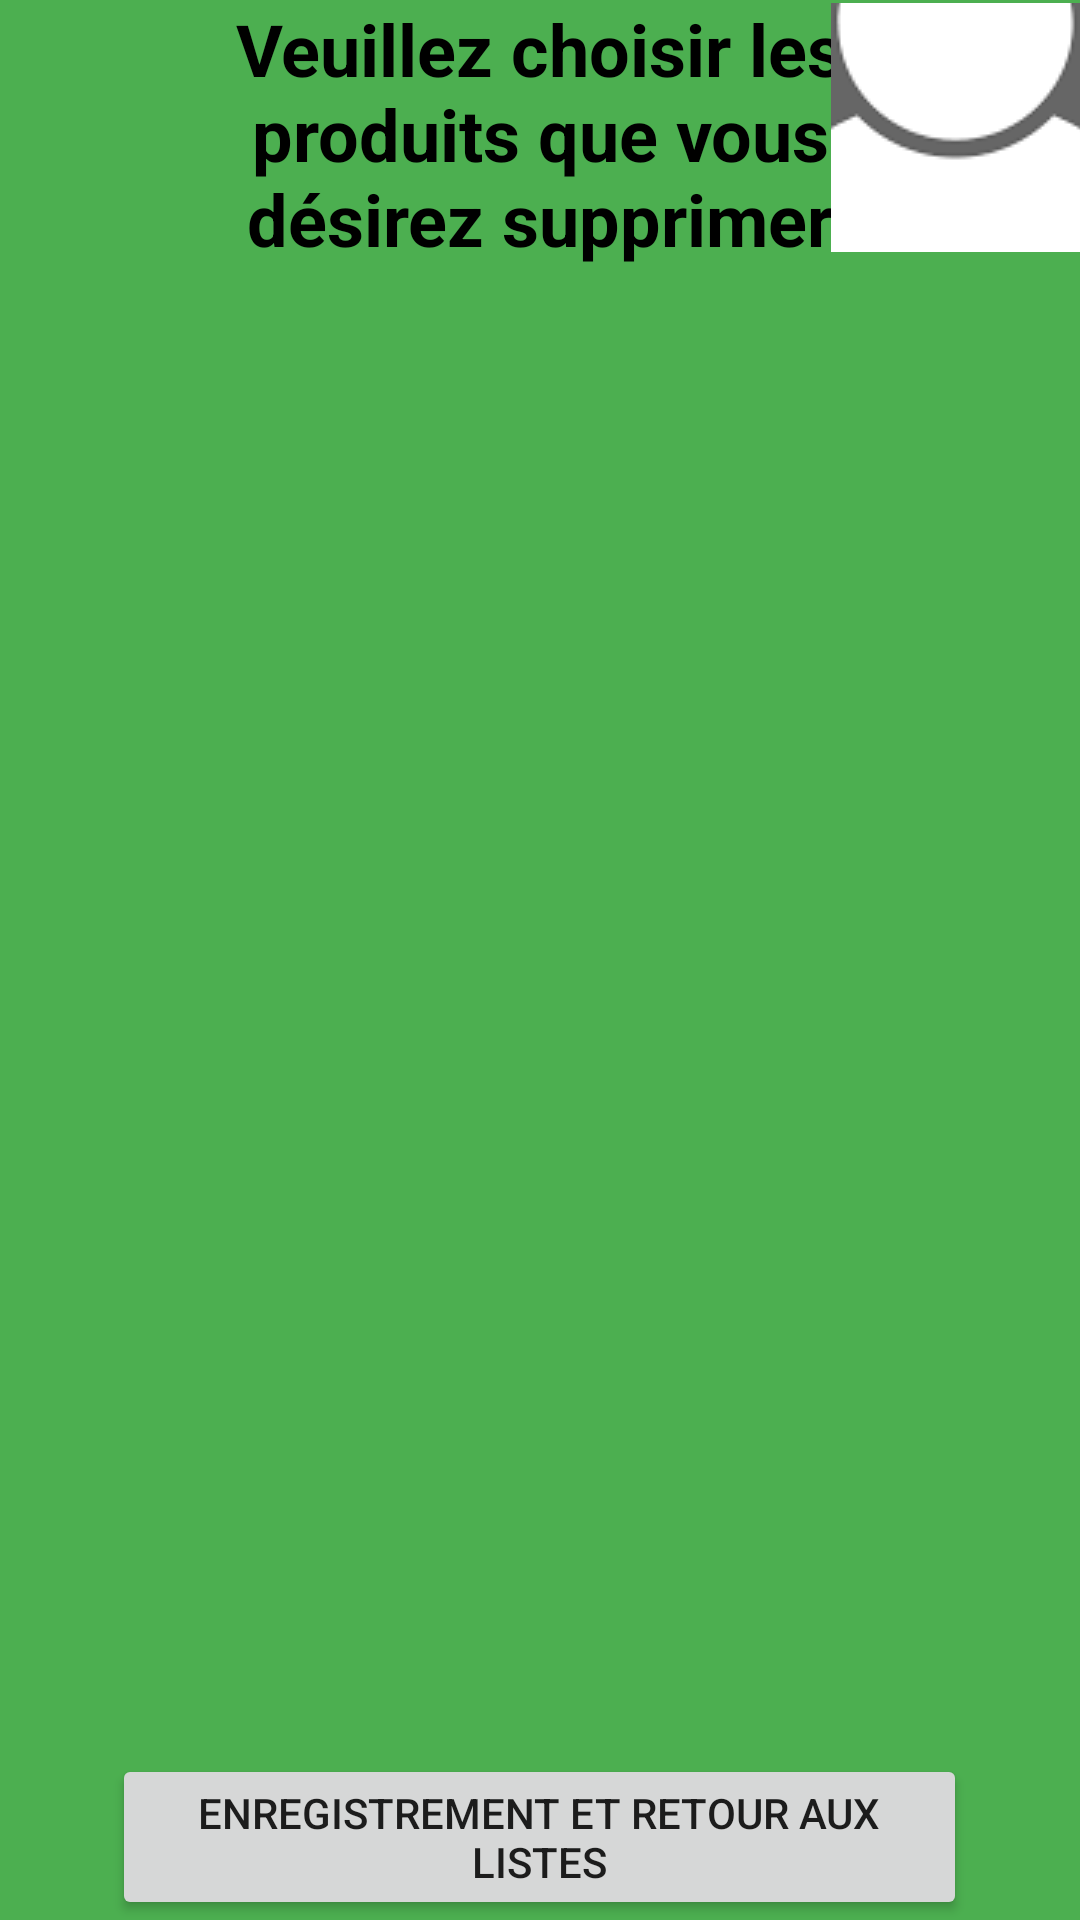

Icon bounding boxes for this 1080px×1920px phone screenshot, format [left=x1, top=y1, right=x2, bottom=y2]:
compte: [left=831, top=3, right=1080, bottom=252]
